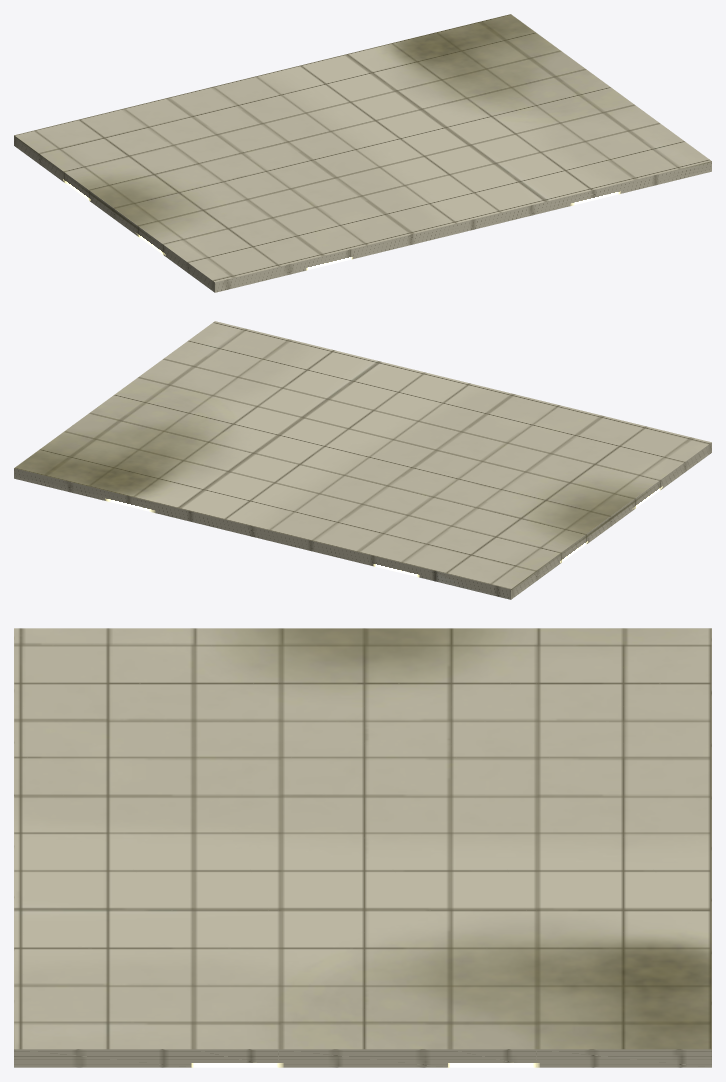
File: Ceiling.fbx
3 views of the same model, one above another, from view 1: azimuth 30°, elevation 25°; view 2: azimuth 150°, elevation 25°; view 3: azimuth 270°, elevation 25° (orthographic). The views are drawn at different scales.
Visible parts, largest first — view 1: Export ceiling; view 2: Export ceiling; view 3: Export ceiling.
Part boxes in pixels (x1,y1,x2,y2): Export ceiling: (14,14,711,292); Export ceiling: (14,321,711,599); Export ceiling: (14,628,711,1067).
Bounding box in the file's own units: 2004 × 43.9 × 1404.
